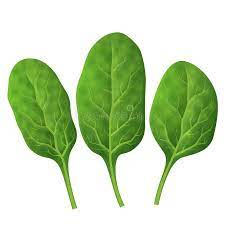spinach: (13, 39, 218, 180)
